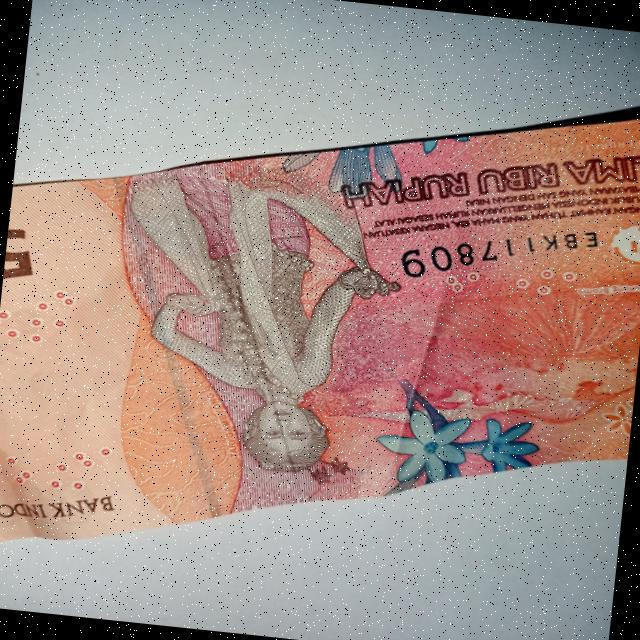5K: (0, 34, 640, 617)
